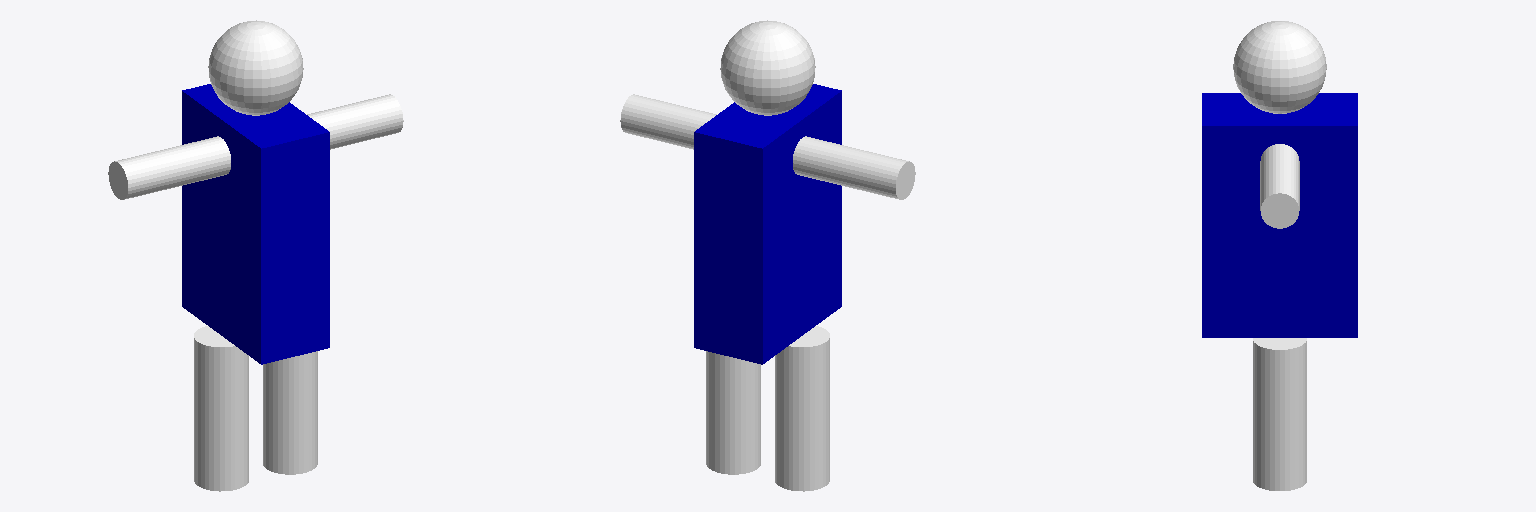
robot.urdf — simple_humanoid:
<?xml version="1.0"?>
<!--
  smoke_test_humanoid: Minimal 5-DOF humanoid for parser/API smoke tests ONLY.
  NOT suitable for biomechanical simulation — no elbows, knees, wrists, or spine.
  Mass properties derived from de Leva 1996 (Table 4, male) at 70 kg reference body mass.
  Inertia tensors computed analytically from the link geometries below.
  Source: de Leva P (1996). "Adjustments to Zatsiorsky-Seluyanov's segment inertia
  parameters." J Biomech 29(9): 1223-1230.
-->
<robot name="simple_humanoid">

  <!-- Materials -->
  <material name="blue">
    <color rgba="0 0 0.8 1"/>
  </material>
  <material name="white">
    <color rgba="1 1 1 1"/>
  </material>

  <!-- Torso: 43.46% BM = 30.42 kg (de Leva 1996 male trunk).
       Box 0.2 x 0.4 x 0.6 m. ixx=m(y²+z²)/12, iyy=m(x²+z²)/12, izz=m(x²+y²)/12 -->
  <link name="torso">
    <visual>
      <geometry>
        <box size="0.2 0.4 0.6"/>
      </geometry>
      <material name="blue"/>
      <origin rpy="0 0 0" xyz="0 0 0.3"/>
    </visual>
    <collision>
      <geometry>
        <box size="0.2 0.4 0.6"/>
      </geometry>
      <origin rpy="0 0 0" xyz="0 0 0.3"/>
    </collision>
    <inertial>
      <mass value="30.42"/>
      <inertia ixx="1.318" ixy="0.0" ixz="0.0" iyy="1.014" iyz="0.0" izz="0.507"/>
    </inertial>
  </link>

  <!-- Head: 6.94% BM = 4.86 kg (de Leva 1996 male head).
       Sphere r=0.12 m. I = 2/5 * m * r² -->
  <link name="head">
    <visual>
      <geometry>
        <sphere radius="0.12"/>
      </geometry>
      <material name="white"/>
      <origin rpy="0 0 0" xyz="0 0 0.12"/>
    </visual>
    <collision>
      <geometry>
        <sphere radius="0.12"/>
      </geometry>
      <origin rpy="0 0 0" xyz="0 0 0.12"/>
    </collision>
    <inertial>
      <mass value="4.86"/>
      <inertia ixx="0.028" ixy="0.0" ixz="0.0" iyy="0.028" iyz="0.0" izz="0.028"/>
    </inertial>
  </link>

  <joint name="neck" type="revolute">
    <parent link="torso"/>
    <child link="head"/>
    <origin rpy="0 0 0" xyz="0 0 0.6"/>
    <axis xyz="0 0 1"/>
    <limit lower="-1.57" upper="1.57" effort="10" velocity="1"/>
  </joint>

  <!-- Right Arm: 2.80% BM = 1.96 kg (de Leva 1996 male upper arm).
       Cylinder r=0.05 m, l=0.3 m, long axis along x (rpy="0 1.57 0").
       ixx=0.5*m*r², iyy=izz=m(3r²+l²)/12 -->
  <link name="right_upper_arm">
    <visual>
      <geometry>
        <cylinder length="0.3" radius="0.05"/>
      </geometry>
      <material name="white"/>
      <origin rpy="0 1.57 0" xyz="0.15 0 0"/>
    </visual>
    <collision>
      <geometry>
        <cylinder length="0.3" radius="0.05"/>
      </geometry>
      <origin rpy="0 1.57 0" xyz="0.15 0 0"/>
    </collision>
    <inertial>
      <mass value="1.96"/>
      <inertia ixx="0.0025" ixy="0.0" ixz="0.0" iyy="0.016" iyz="0.0" izz="0.016"/>
    </inertial>
  </link>

  <joint name="right_shoulder" type="revolute">
    <parent link="torso"/>
    <child link="right_upper_arm"/>
    <origin rpy="0 0 0" xyz="0.1 0 0.5"/>
    <axis xyz="0 1 0"/>
    <limit lower="-3.14" upper="3.14" effort="30" velocity="1"/>
  </joint>

  <!-- Left Arm: 2.80% BM = 1.96 kg (de Leva 1996 male upper arm). Same geometry. -->
  <link name="left_upper_arm">
    <visual>
      <geometry>
        <cylinder length="0.3" radius="0.05"/>
      </geometry>
      <material name="white"/>
      <origin rpy="0 -1.57 0" xyz="-0.15 0 0"/>
    </visual>
    <collision>
      <geometry>
        <cylinder length="0.3" radius="0.05"/>
      </geometry>
      <origin rpy="0 -1.57 0" xyz="-0.15 0 0"/>
    </collision>
    <inertial>
      <mass value="1.96"/>
      <inertia ixx="0.0025" ixy="0.0" ixz="0.0" iyy="0.016" iyz="0.0" izz="0.016"/>
    </inertial>
  </link>

  <joint name="left_shoulder" type="revolute">
    <parent link="torso"/>
    <child link="left_upper_arm"/>
    <origin rpy="0 0 0" xyz="-0.1 0 0.5"/>
    <axis xyz="0 1 0"/>
    <limit lower="-3.14" upper="3.14" effort="30" velocity="1"/>
  </joint>

  <!-- Right Leg: 10.00% BM = 7.0 kg (de Leva 1996 male thigh).
       Cylinder r=0.07 m, l=0.4 m, long axis along z.
       izz=0.5*m*r², ixx=iyy=m(3r²+l²)/12 -->
  <link name="right_upper_leg">
    <visual>
      <geometry>
        <cylinder length="0.4" radius="0.07"/>
      </geometry>
      <material name="white"/>
      <origin rpy="0 0 0" xyz="0 0 -0.2"/>
    </visual>
    <collision>
      <geometry>
        <cylinder length="0.4" radius="0.07"/>
      </geometry>
      <origin rpy="0 0 0" xyz="0 0 -0.2"/>
    </collision>
    <inertial>
      <mass value="7.0"/>
      <inertia ixx="0.102" ixy="0.0" ixz="0.0" iyy="0.102" iyz="0.0" izz="0.017"/>
    </inertial>
  </link>

  <joint name="right_hip" type="revolute">
    <parent link="torso"/>
    <child link="right_upper_leg"/>
    <origin rpy="0 0 0" xyz="0.1 0 0"/>
    <axis xyz="0 1 0"/>
    <limit lower="-1.57" upper="1.57" effort="50" velocity="1"/>
  </joint>

  <!-- Left Leg: 10.00% BM = 7.0 kg (de Leva 1996 male thigh). Same geometry. -->
  <link name="left_upper_leg">
    <visual>
      <geometry>
        <cylinder length="0.4" radius="0.07"/>
      </geometry>
      <material name="white"/>
      <origin rpy="0 0 0" xyz="0 0 -0.2"/>
    </visual>
    <collision>
      <geometry>
        <cylinder length="0.4" radius="0.07"/>
      </geometry>
      <origin rpy="0 0 0" xyz="0 0 -0.2"/>
    </collision>
    <inertial>
      <mass value="7.0"/>
      <inertia ixx="0.102" ixy="0.0" ixz="0.0" iyy="0.102" iyz="0.0" izz="0.017"/>
    </inertial>
  </link>

  <joint name="left_hip" type="revolute">
    <parent link="torso"/>
    <child link="left_upper_leg"/>
    <origin rpy="0 0 0" xyz="-0.1 0 0"/>
    <axis xyz="0 1 0"/>
    <limit lower="-1.57" upper="1.57" effort="50" velocity="1"/>
  </joint>

</robot>

--- Facts derived from the render (not from the file) ---
Views: 3 orthographic renders of the robot side by side, from view 1: azimuth 30°, elevation 25°; view 2: azimuth 150°, elevation 25°; view 3: azimuth 270°, elevation 25°.
Model simple_humanoid with 6 links and 5 joints (5 revolute), rooted at torso, posed all joints at 0.
Links seen in each view (by area): view 1: torso, left_upper_leg, head, right_upper_leg, left_upper_arm, right_upper_arm; view 2: torso, left_upper_leg, head, right_upper_leg, left_upper_arm, right_upper_arm; view 3: torso, right_upper_leg, head, right_upper_arm.
Boxes of the visible links, x1=… form: torso: x1=182, y1=84, x2=329, y2=364; left_upper_leg: x1=194, y1=326, x2=248, y2=491; head: x1=208, y1=20, x2=303, y2=115; right_upper_leg: x1=263, y1=351, x2=317, y2=474; left_upper_arm: x1=108, y1=136, x2=230, y2=199; right_upper_arm: x1=307, y1=94, x2=403, y2=149; torso: x1=694, y1=84, x2=841, y2=364; left_upper_leg: x1=775, y1=326, x2=829, y2=491; head: x1=720, y1=20, x2=815, y2=115; right_upper_leg: x1=706, y1=351, x2=760, y2=474; left_upper_arm: x1=793, y1=136, x2=915, y2=199; right_upper_arm: x1=620, y1=94, x2=716, y2=149; torso: x1=1202, y1=93, x2=1357, y2=337; right_upper_leg: x1=1253, y1=338, x2=1306, y2=490; head: x1=1233, y1=21, x2=1326, y2=113; right_upper_arm: x1=1260, y1=144, x2=1299, y2=228.
Size in the robot's own frame: 0.8001 by 0.4 by 1.24 metres.
Geometry: primitives only (box / cylinder / sphere), no mesh files.
